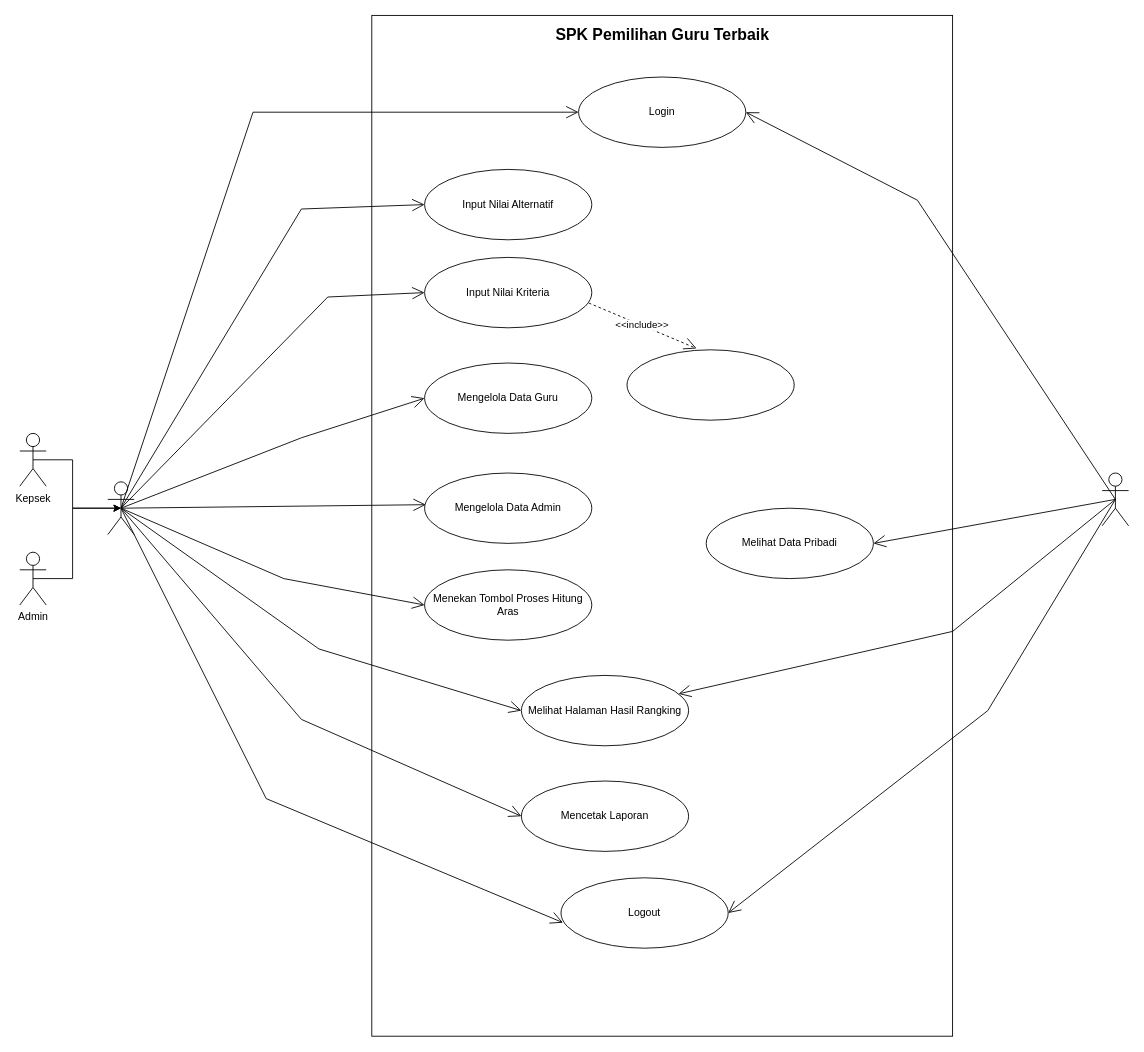
This 1144x1052 diagram has some shape labels left out. Each missing label, with the box of its shape:
Guru: (1101, 472, 1129, 526)
Input Nilai Sub Kriteria: (626, 349, 794, 420)
Pengelola sistem: (107, 481, 134, 535)
